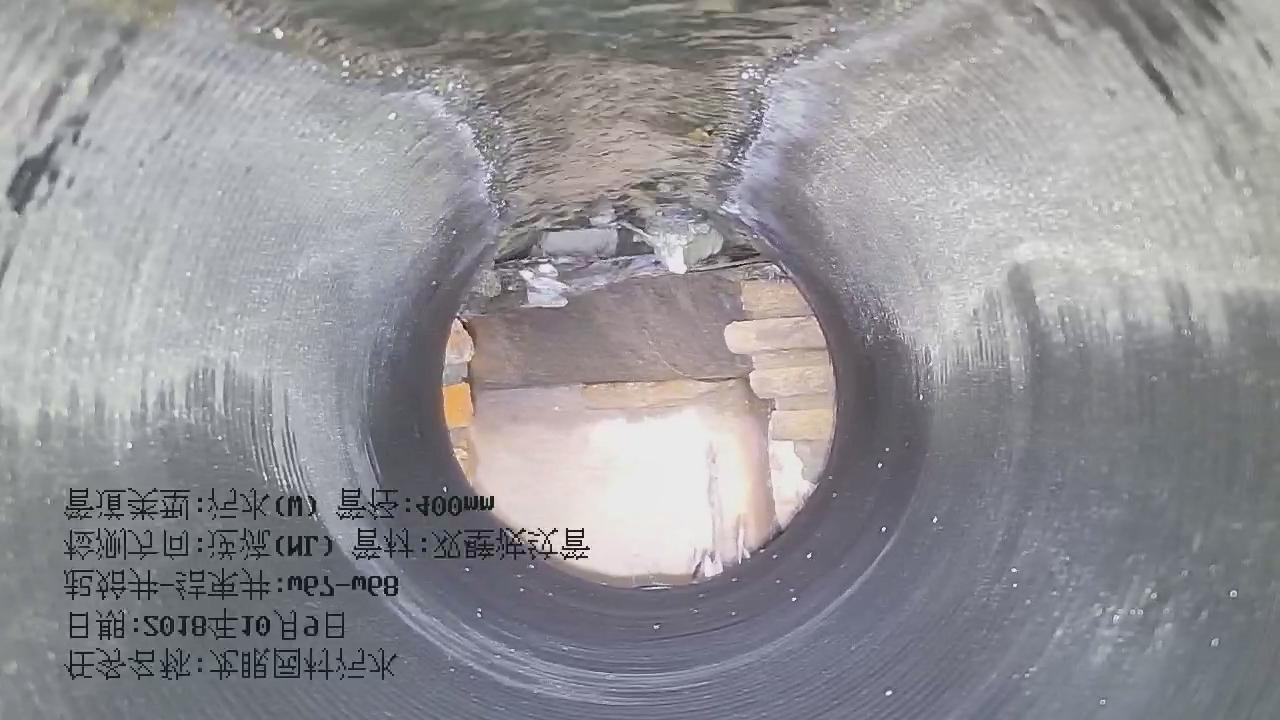CQBG: (723, 272, 836, 534), (443, 319, 474, 484)
